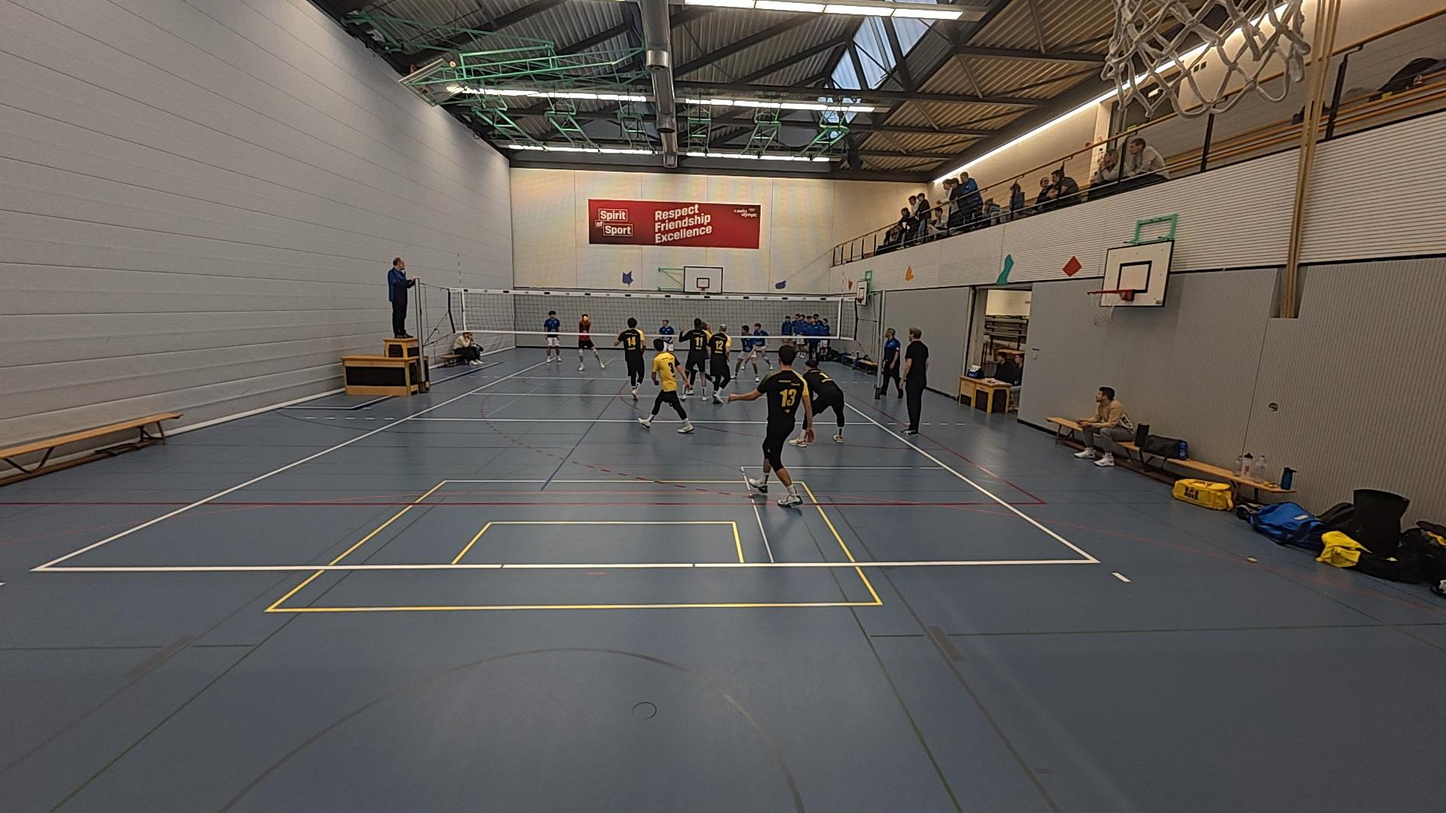Player: (723, 349, 813, 506), (640, 341, 694, 434), (790, 352, 843, 446), (704, 321, 738, 403), (615, 318, 648, 400), (681, 317, 710, 401), (734, 323, 767, 380), (775, 313, 802, 370), (541, 309, 565, 364), (654, 315, 678, 353)
Receive: (573, 312, 601, 370)
ball: (901, 265, 916, 280), (579, 308, 591, 325)
